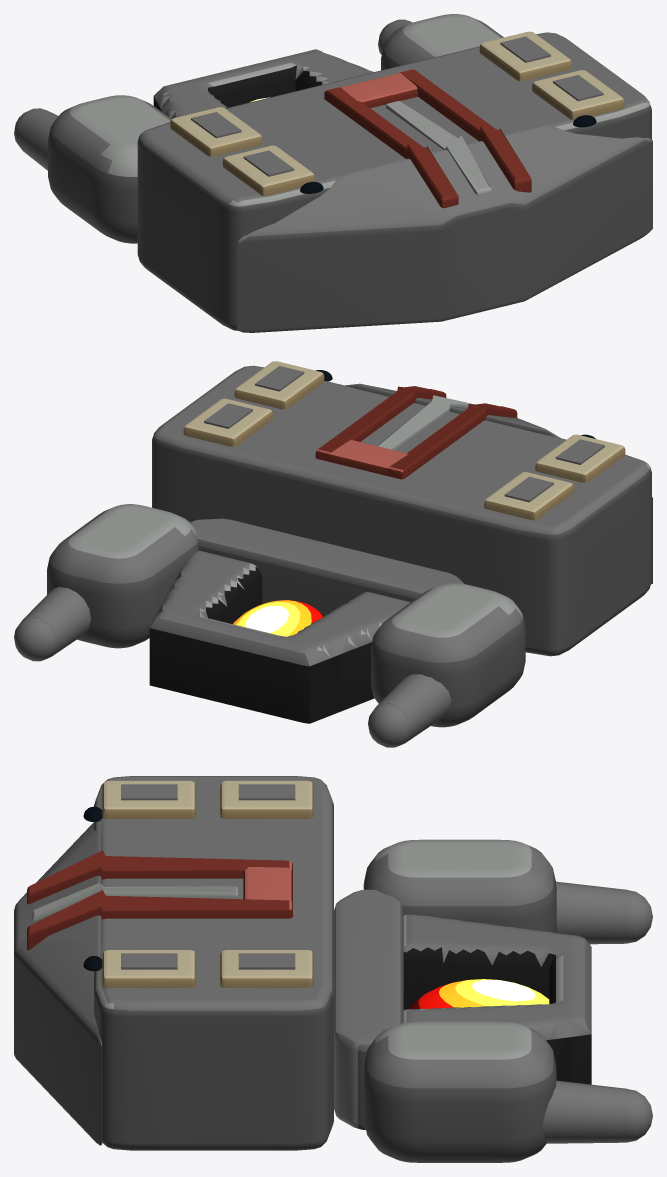
Rendered from k_lampgun.glb.
The picture shows the model from 3 angles, top to bottom: view 1: azimuth 30°, elevation 25°; view 2: azimuth 150°, elevation 25°; view 3: azimuth 270°, elevation 25°; orthographic projection. The views are drawn at different scales.
Visible parts, largest first — view 1: k_lampgun; view 2: k_lampgun; view 3: k_lampgun.
Part boxes in pixels (x1,y1,x2,y2): k_lampgun: (14, 14, 652, 332); k_lampgun: (14, 361, 652, 747); k_lampgun: (14, 776, 652, 1162).
Size of the model in its own units: 24.35 by 9.17 by 27.15.
